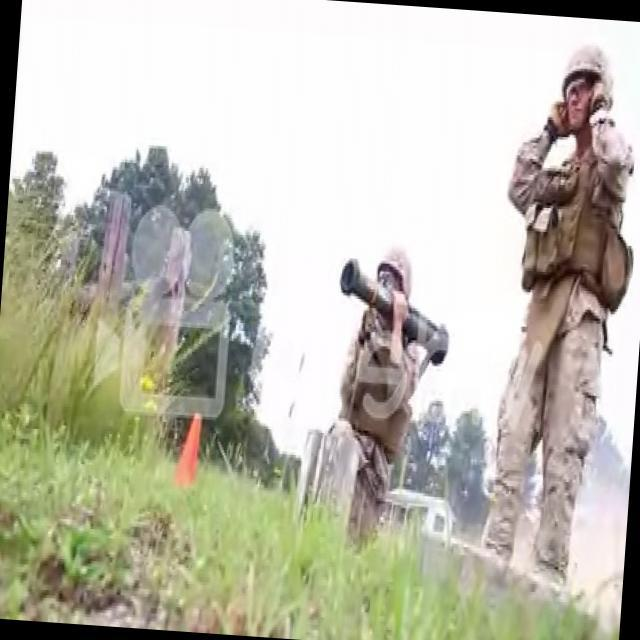rocket: (338, 262, 453, 371)
